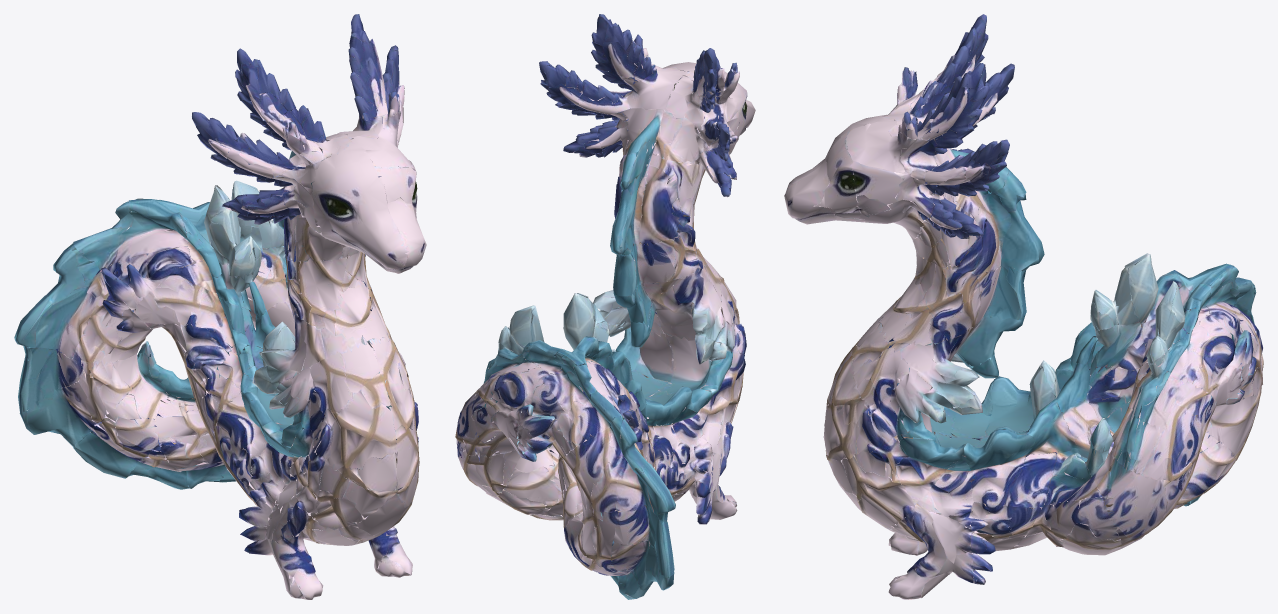
3 views of the same model, side by side, from view 1: azimuth 30°, elevation 25°; view 2: azimuth 150°, elevation 25°; view 3: azimuth 270°, elevation 25° (orthographic). The views are drawn at different scales.
Parts seen in each view (by area): view 1: Mesh_0; view 2: Mesh_0; view 3: Mesh_0.
Part boxes in pixels (box(x1,y1,x2,y2)): Mesh_0: box(14, 14, 426, 599); Mesh_0: box(455, 14, 755, 599); Mesh_0: box(784, 14, 1263, 599).
Bounding box in the file's own units: 1.01 × 1.9 × 1.55.
1 material, 1 textured.
